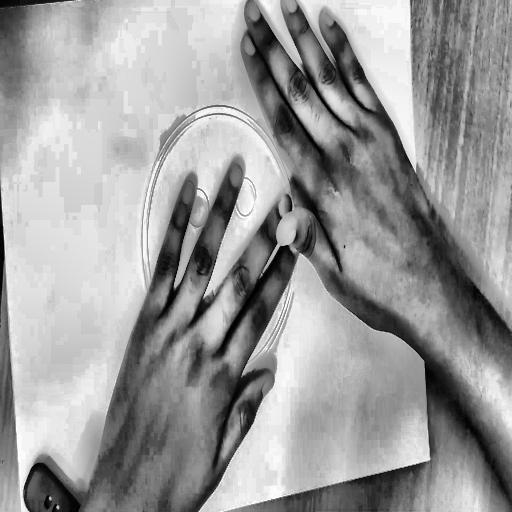bottom_right: (426, 453, 434, 467)
button: (125, 83, 315, 406)
